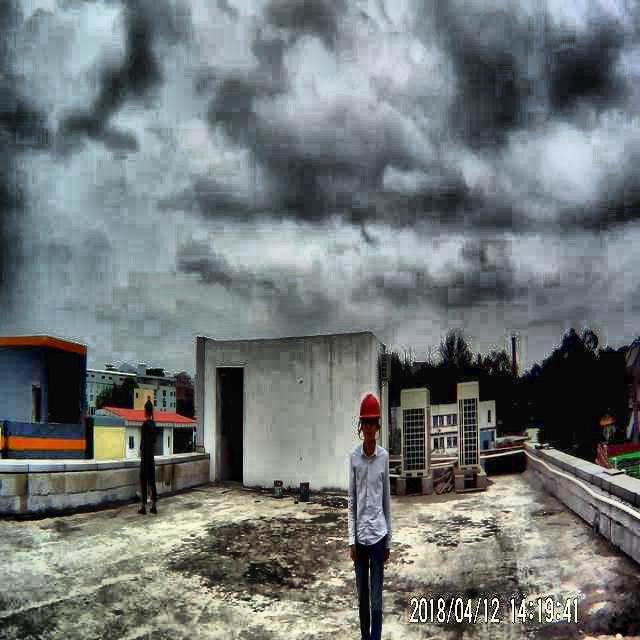person: (337, 390, 397, 638), (137, 397, 164, 518)
